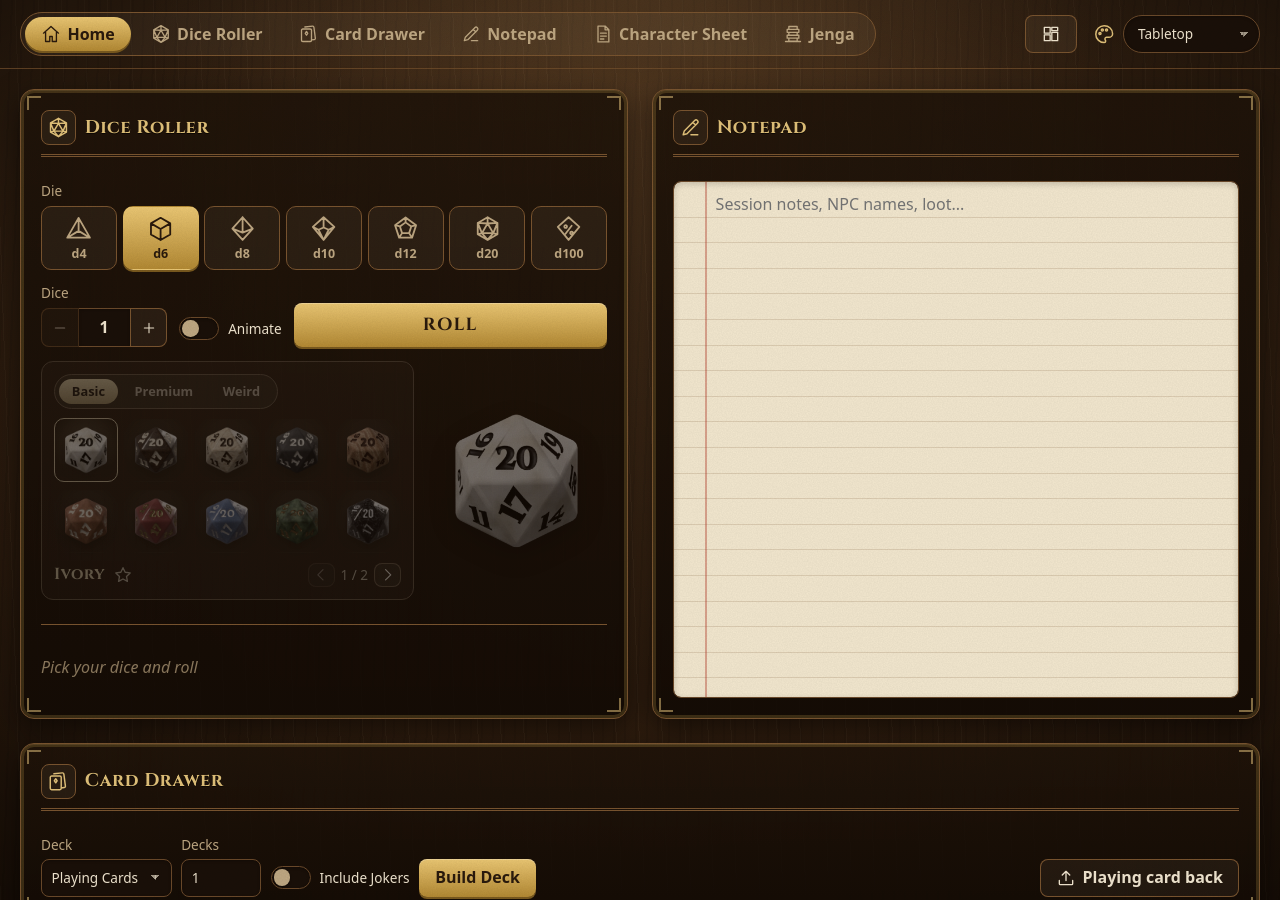
the Home canvas › covers the tools while editing, so they ignore the pointer
This screenshot has width=1280, height=900.
Click the button named "Edit layout": [1051, 34] box [1025,15,1077,53]
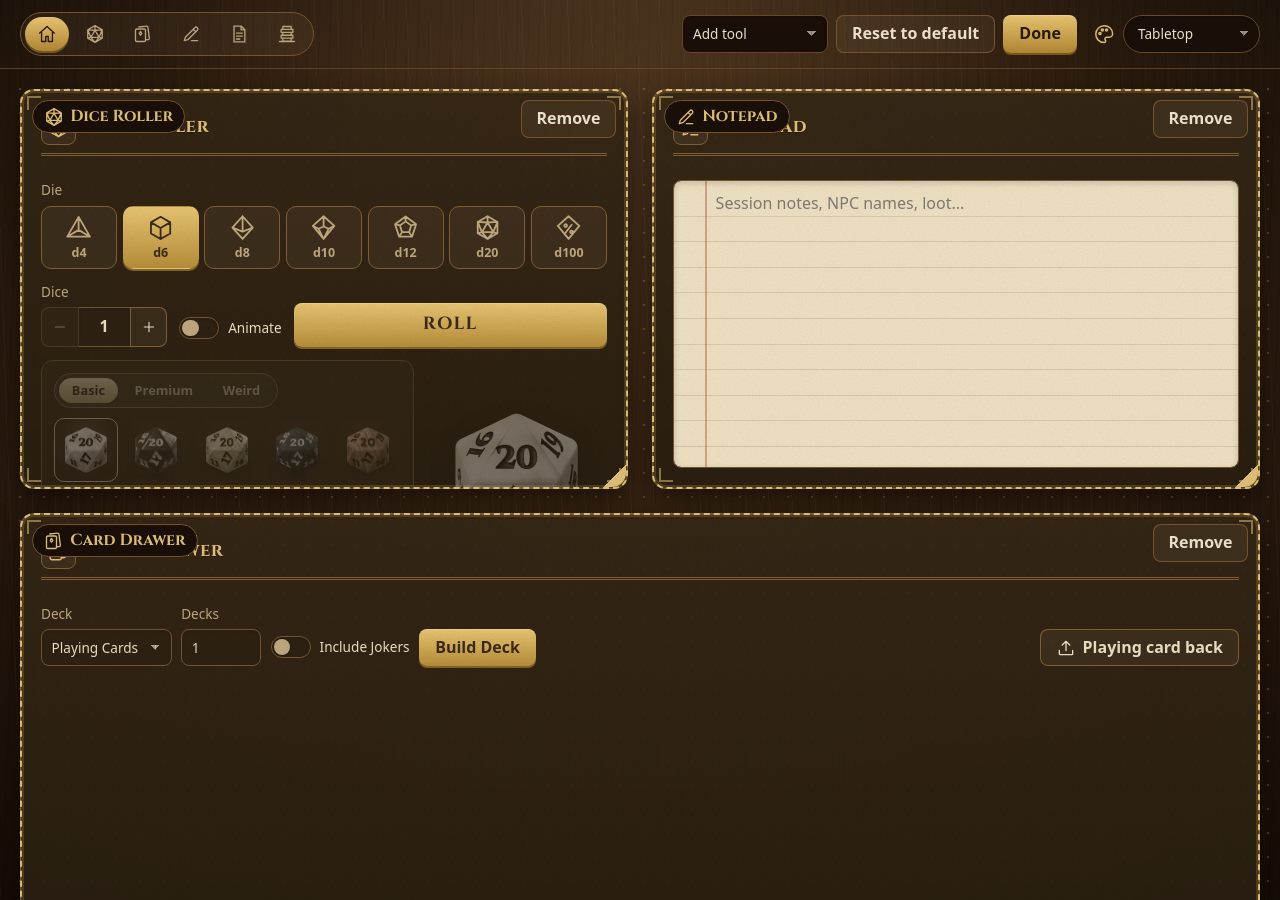
Check: the text "Notepad" is shown, box [664,100,790,133]
Click the button "Done": [1040, 34] box [1003,15,1077,53]
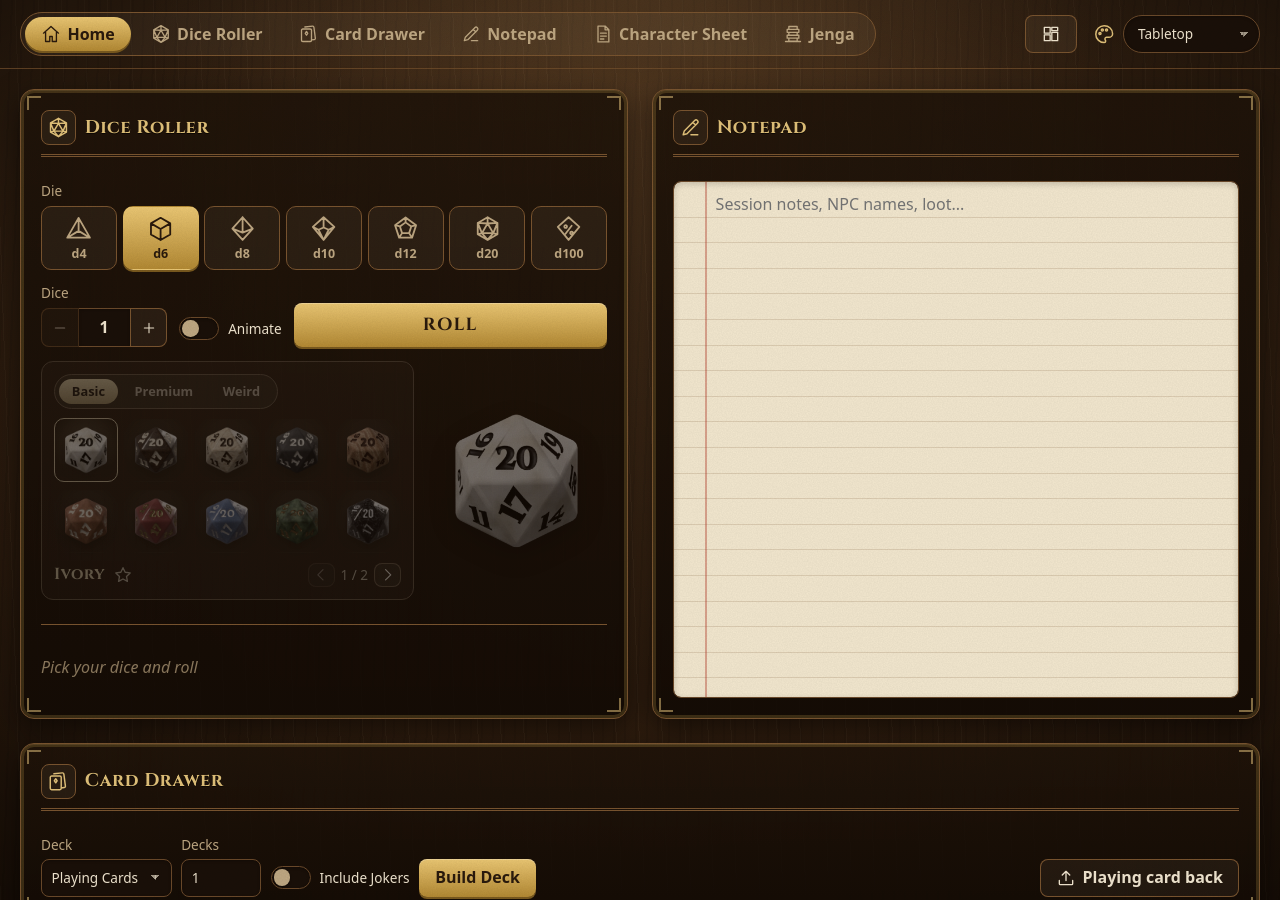
Check: the element with class "window-cover" is gone
